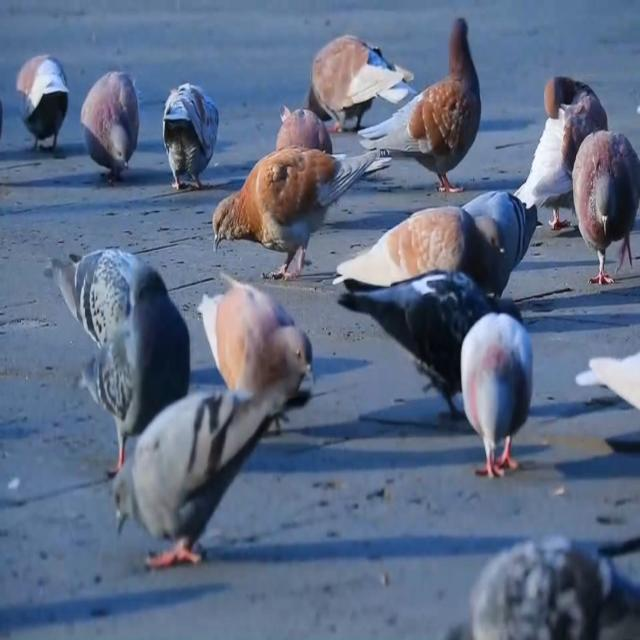bird: (99, 369, 309, 593), (298, 245, 518, 434), (339, 5, 515, 206), (185, 245, 347, 424), (47, 276, 201, 464), (195, 131, 387, 274), (311, 165, 514, 292), (440, 519, 640, 640), (449, 298, 551, 490), (527, 43, 614, 234), (555, 98, 640, 290), (35, 226, 175, 340), (298, 27, 432, 123), (445, 159, 552, 272), (149, 49, 230, 195), (69, 52, 147, 191), (14, 41, 75, 160), (263, 89, 336, 188)
